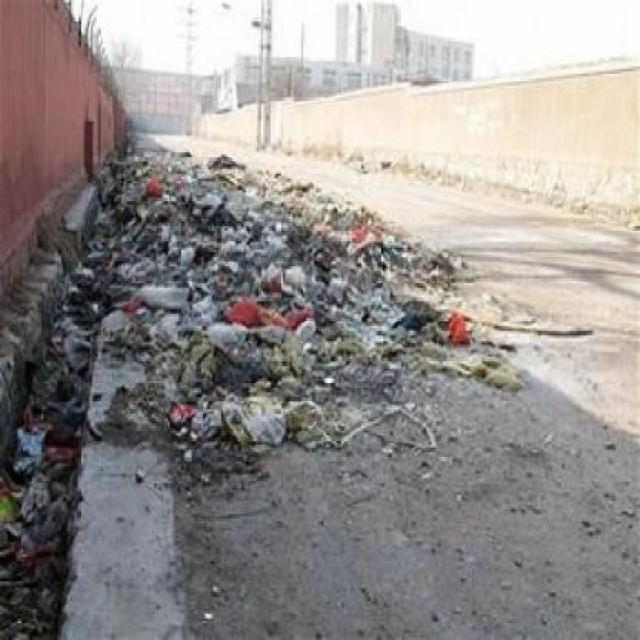garbage: (111, 140, 378, 452), (12, 225, 84, 639), (383, 219, 466, 395)
